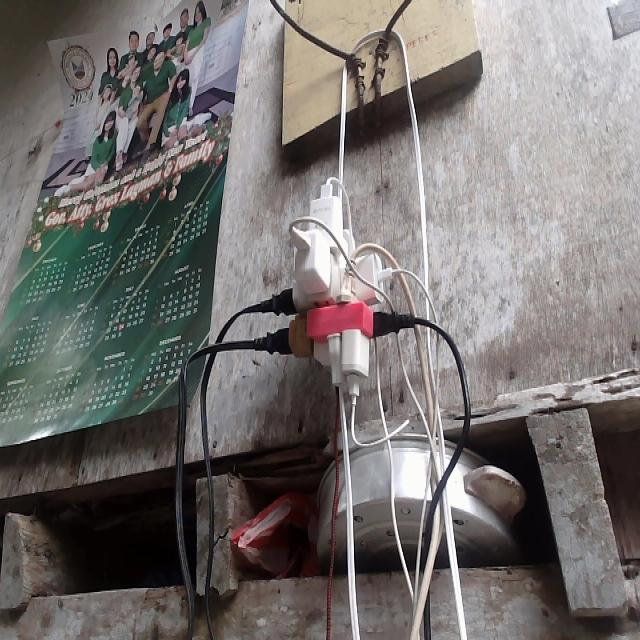-: (263, 176, 401, 404)
